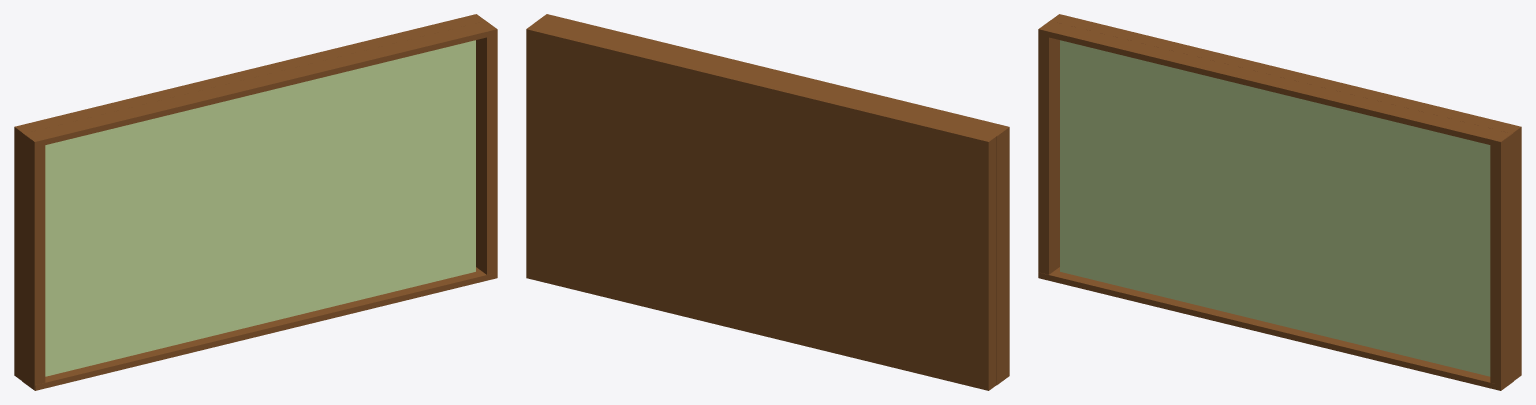
File: lime_painting.obj
3 views of the same model, side by side, from view 1: azimuth 30°, elevation 25°; view 2: azimuth 150°, elevation 25°; view 3: azimuth 330°, elevation 25° (orthographic).
Visible parts, largest first — view 1: polySurface17; view 2: polySurface17; view 3: polySurface17.
Boxes of the visible parts, x1,y1,x2,y2 form: polySurface17: (14,14,497,390); polySurface17: (526,14,1009,390); polySurface17: (1038,14,1521,390).
Size of the model in its own units: 0.4338 by 0.223 by 0.0339.
Materials: 2 (2 with a texture image).
